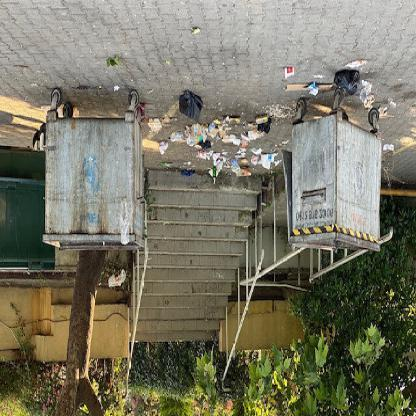Garbage: (206, 110, 282, 180), (177, 120, 229, 158), (331, 59, 365, 95), (177, 84, 207, 119)
